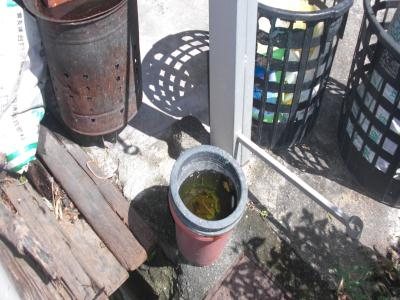bucket: (34, 1, 148, 140), (166, 144, 248, 264)
